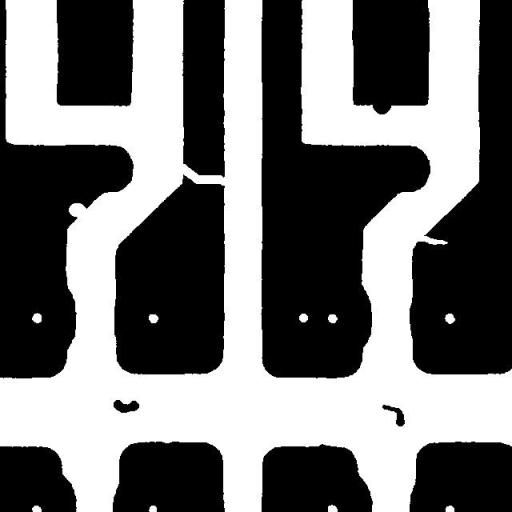copper: (374, 396, 412, 434), (106, 392, 146, 420)
mousebite: (408, 226, 455, 252), (61, 195, 96, 227)
open: (166, 153, 234, 193)
pin-hole: (291, 306, 315, 330)
spur: (365, 88, 398, 122)
